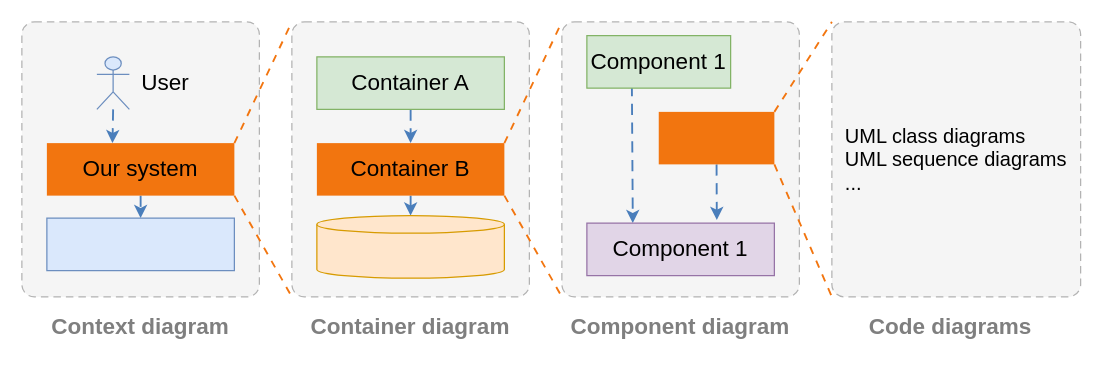
The diagram is 1103 pixels wide and 366 high, and some of its shapes have lost their labels. The shapes that lost their labels are listed below. From the top down, each one's centre as x and y in pixels, then its label:
At pixel 716 137: "Comp. 2".
At pixel 140 244: "Other system".
At pixel 410 246: "Container C".
